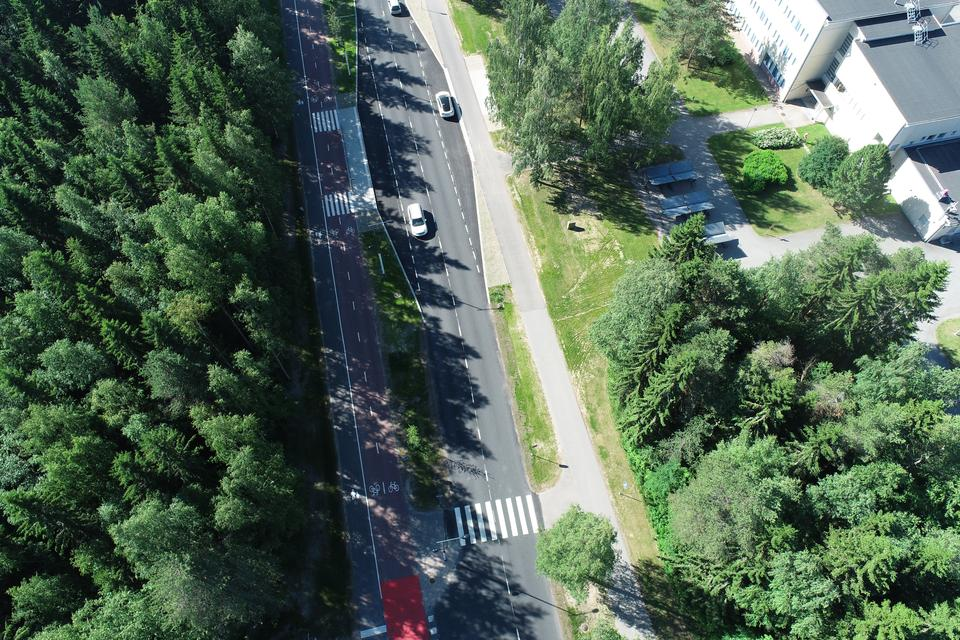intersection: (328, 464, 648, 572)
